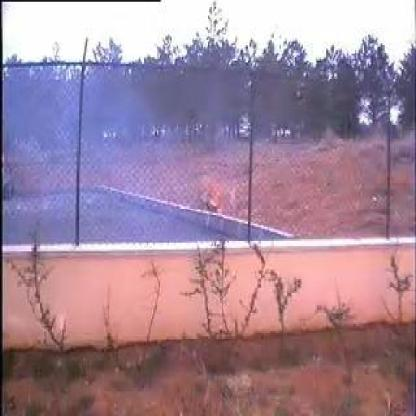-: (44, 82, 202, 238)
